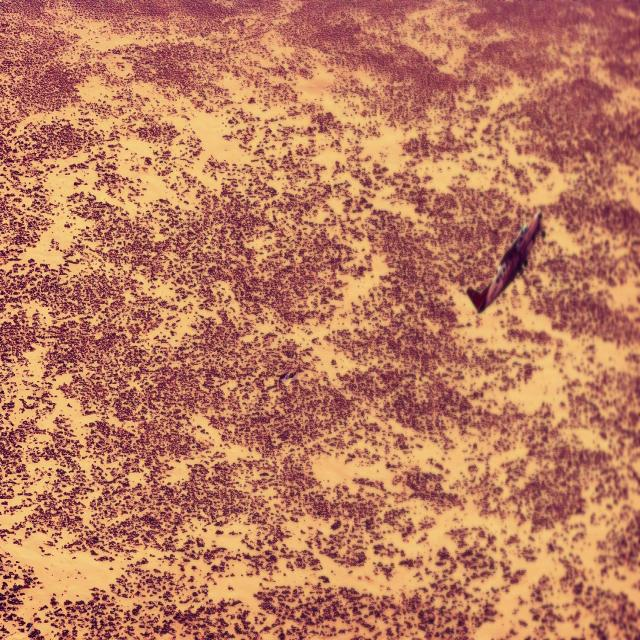airplane: (466, 208, 542, 314)
